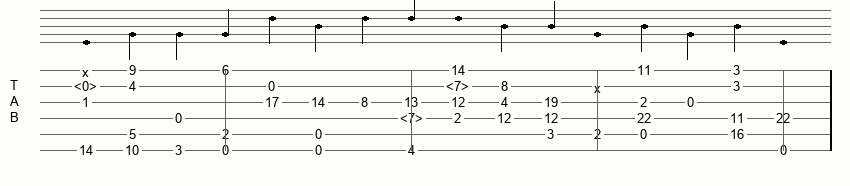0: (175, 111, 186, 125), (222, 143, 233, 157), (268, 79, 279, 93), (315, 127, 326, 141), (315, 143, 326, 157), (640, 127, 651, 141), (687, 95, 698, 109), (780, 143, 791, 157)
1: (82, 95, 93, 109)
10: (125, 143, 143, 157)
11: (637, 63, 655, 77), (730, 111, 748, 125)
12: (451, 95, 469, 109), (497, 111, 515, 125), (544, 111, 562, 125)
13: (404, 95, 422, 109)
14: (79, 143, 97, 157), (311, 95, 329, 109), (451, 63, 469, 77)
16: (730, 127, 748, 141)
17: (265, 95, 283, 109)
19: (544, 95, 562, 109)
2: (222, 127, 233, 141), (454, 111, 465, 125), (594, 127, 605, 141), (640, 95, 651, 109)
22: (637, 111, 655, 125), (776, 111, 794, 125)
3: (175, 143, 186, 157), (547, 127, 558, 141), (733, 63, 744, 77), (733, 79, 744, 93)
4: (129, 79, 140, 93), (408, 143, 419, 157), (501, 95, 512, 109)
5: (129, 127, 140, 141)
6: (222, 63, 233, 77)
8: (361, 95, 372, 109), (501, 79, 512, 93)
9: (129, 63, 140, 77)
harmonic: (74, 79, 101, 93), (400, 111, 427, 125), (446, 79, 473, 93)
x: (82, 65, 93, 76), (594, 81, 605, 92)
